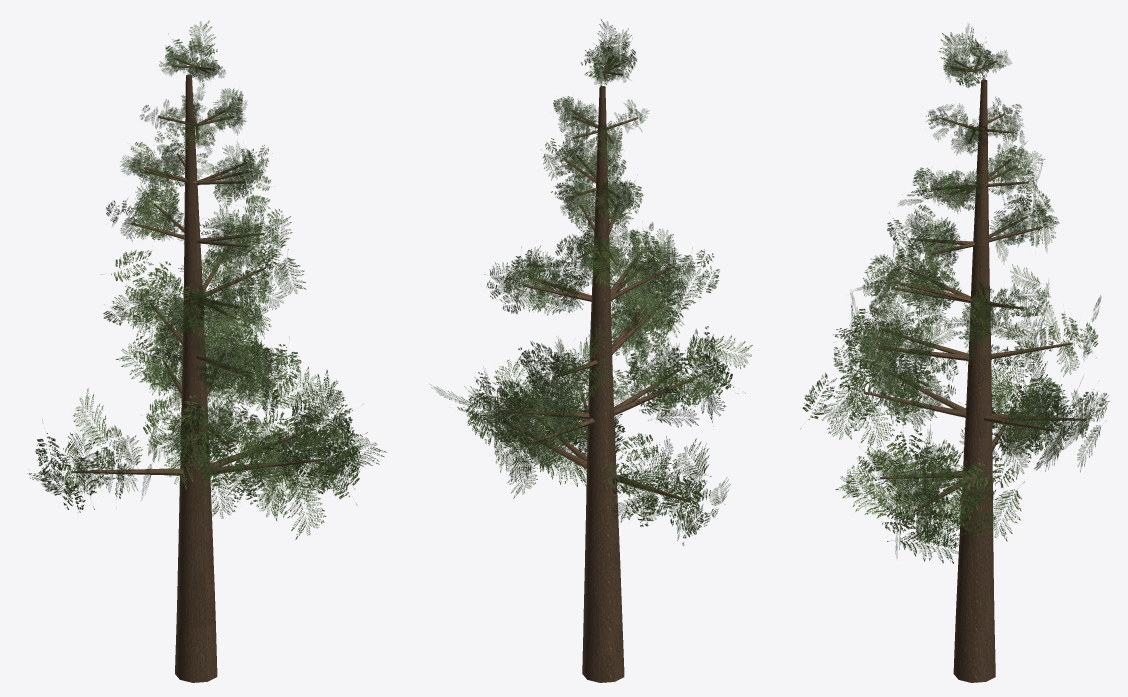
Rendered from pine_5.glb.
The picture shows the model from 3 angles, left to right: view 1: azimuth 30°, elevation 25°; view 2: azimuth 150°, elevation 25°; view 3: azimuth 270°, elevation 25°; orthographic projection.
Parts seen in each view (by area): view 1: pine; view 2: pine; view 3: pine.
Boxes of the visible parts, bbox=[...] form: pine: bbox=[27, 20, 386, 682]; pine: bbox=[430, 19, 752, 682]; pine: bbox=[800, 24, 1109, 682].
Size of the model in its own units: 7.19 by 13.99 by 6.33.
2 materials, 2 textured.
